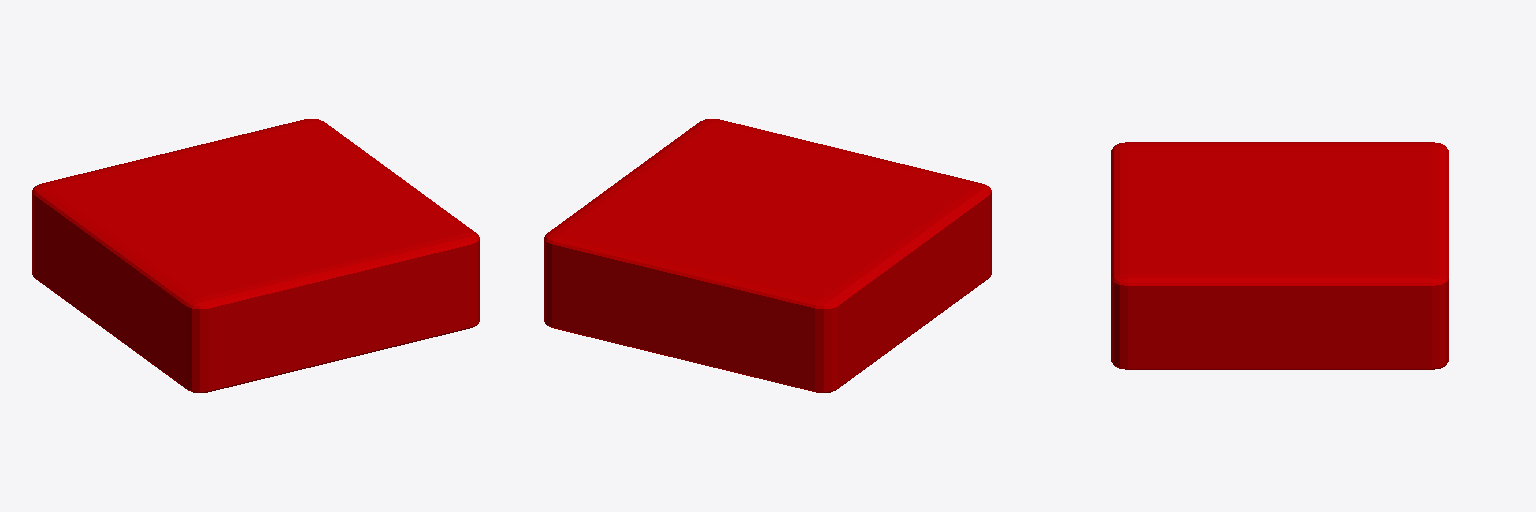
File: clock_button_right.obj
3 renders of one model, left to right at view 1: azimuth 30°, elevation 25°; view 2: azimuth 150°, elevation 25°; view 3: azimuth 270°, elevation 25°, orthographic.
Parts seen in each view (by area): view 1: Cube.001_Cube.002; view 2: Cube.001_Cube.002; view 3: Cube.001_Cube.002.
Boxes of the visible parts, x1=… form: Cube.001_Cube.002: x1=32, y1=119, x2=479, y2=392; Cube.001_Cube.002: x1=544, y1=119, x2=991, y2=392; Cube.001_Cube.002: x1=1111, y1=142, x2=1448, y2=369.
Size of the model in its own units: 0.0256 by 0.0077 by 0.0256.